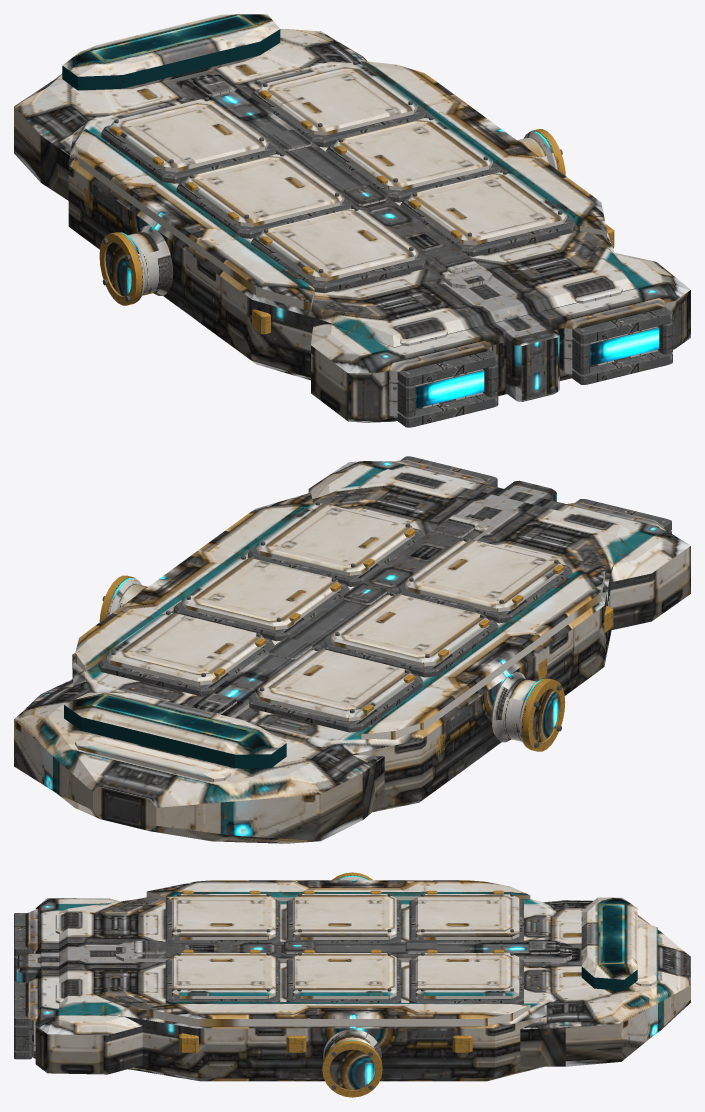
The model's file is clean-slate.glb.
3 views of the same model, one above another, from view 1: azimuth 30°, elevation 25°; view 2: azimuth 150°, elevation 25°; view 3: azimuth 270°, elevation 25° (orthographic). The views are drawn at different scales.
Visible parts, largest first — view 1: hull / Clean Slate / painted hull and fittings, hull / Ventral / Clean Slate; view 2: hull / Clean Slate / painted hull and fittings, hull / Ventral / Clean Slate; view 3: hull / Clean Slate / painted hull and fittings, hull / Ventral / Clean Slate.
Boxes of the visible parts, box(x1,y1,x2,y2) form: hull / Clean Slate / painted hull and fittings: box(14, 14, 690, 427); hull / Ventral / Clean Slate: box(72, 55, 674, 422); hull / Clean Slate / painted hull and fittings: box(14, 456, 690, 841); hull / Ventral / Clean Slate: box(56, 533, 600, 843); hull / Clean Slate / painted hull and fittings: box(14, 872, 690, 1097); hull / Ventral / Clean Slate: box(31, 937, 690, 1081).
Size of the model in its own units: 11.91 by 2.91 by 19.74.
2 materials, 2 textured.
